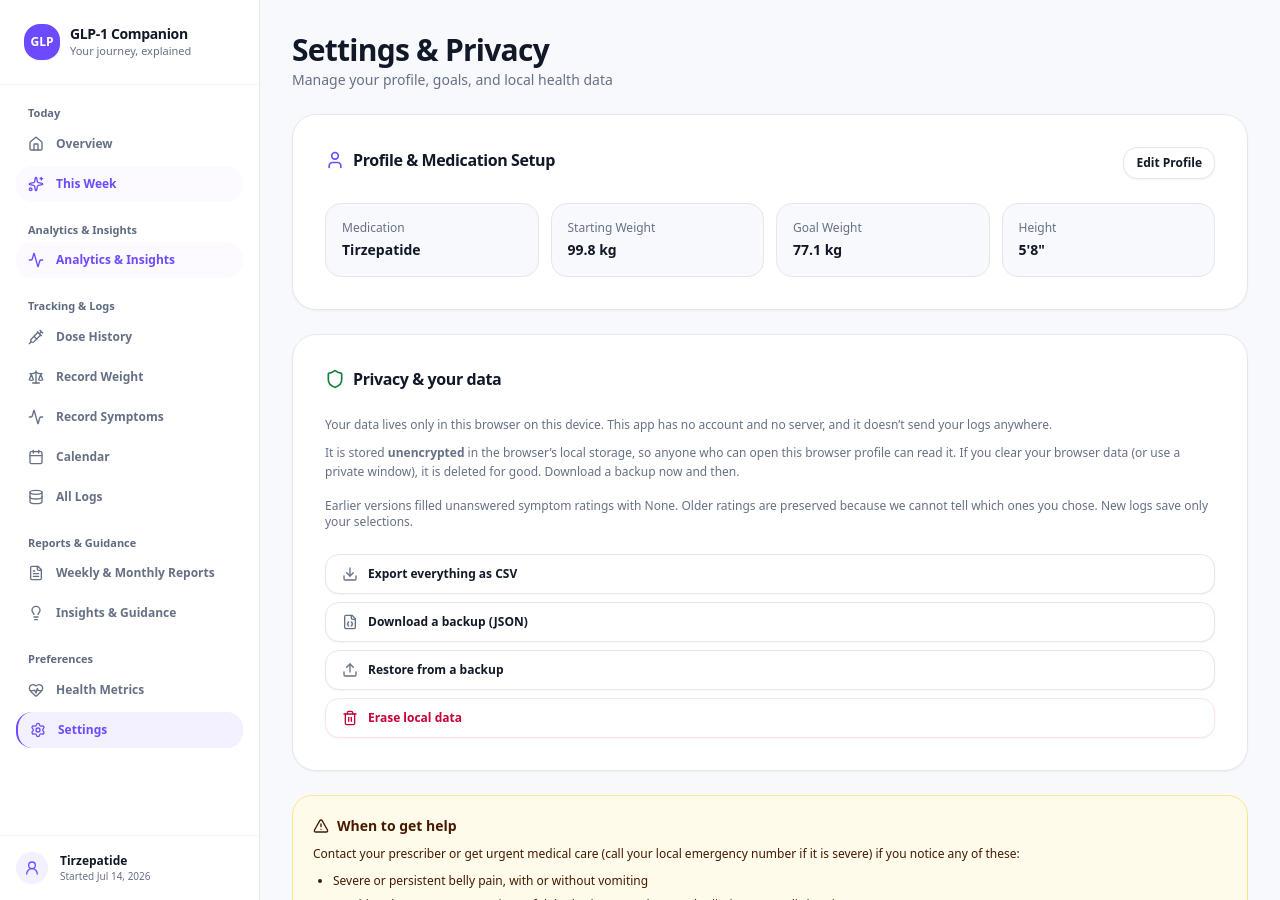
Test: exports › Settings CSV export downloads a Blob (not a data: URI) with BOM and the tidy header
Step 1. Click the button "Export everything as CSV" → (443, 573), box x1=325 y1=554 x2=1215 y2=594
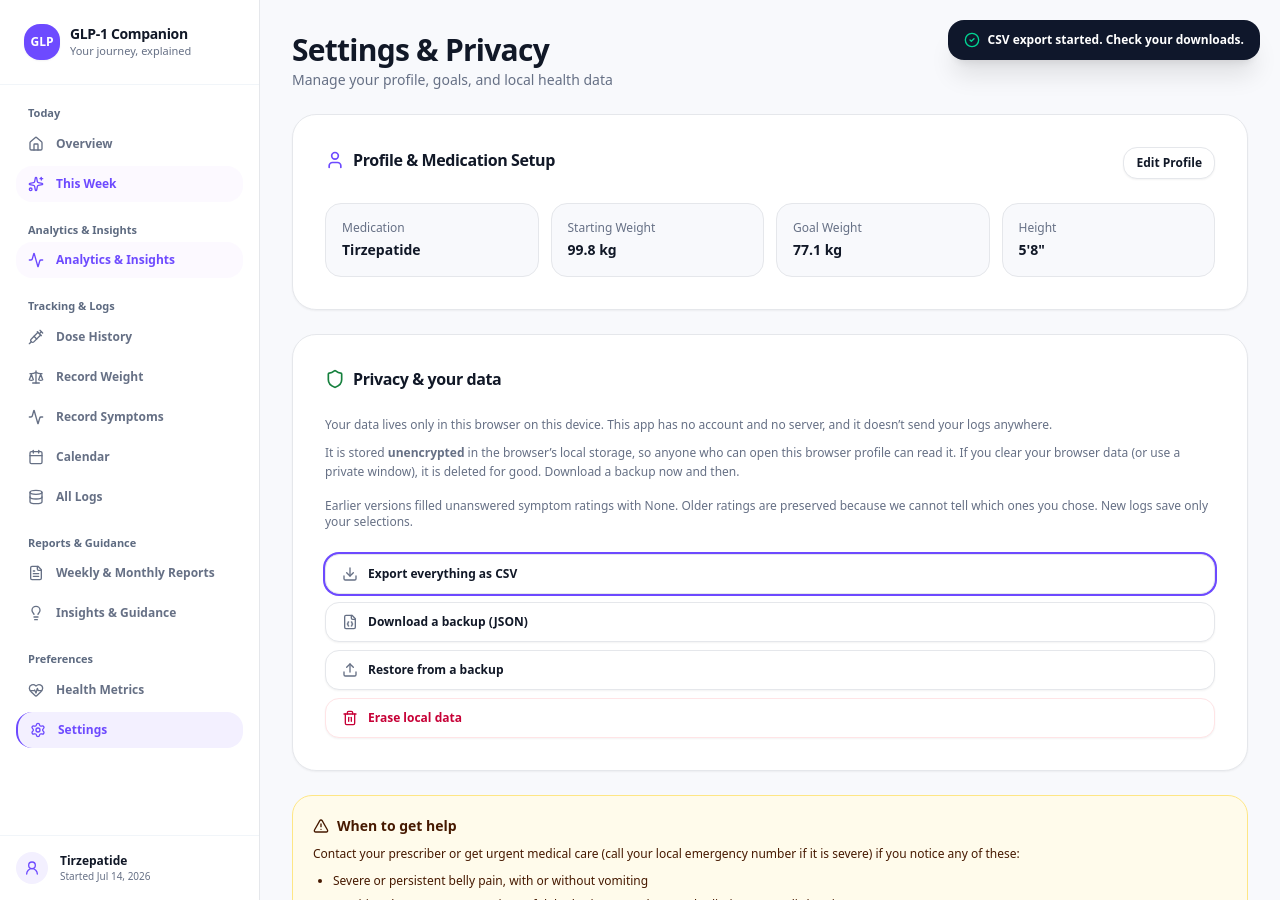
Result: the message shows "CSV export started" at x1=988 y1=31 x2=1244 y2=48
